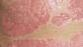plaque psoriasis: (0, 0, 60, 39), (1, 28, 83, 47), (67, 0, 83, 22), (50, 12, 72, 27)
